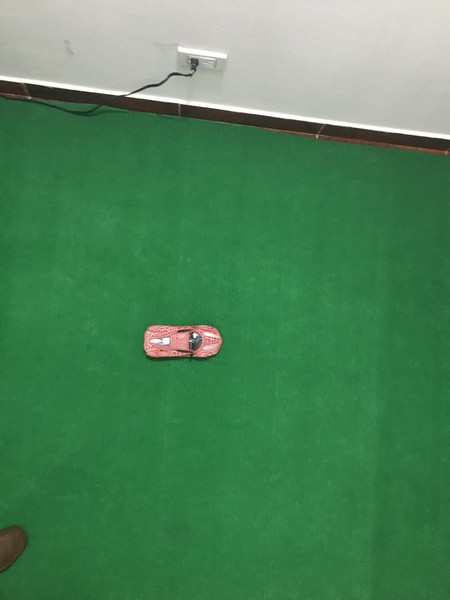RC: (141, 322, 223, 359)
